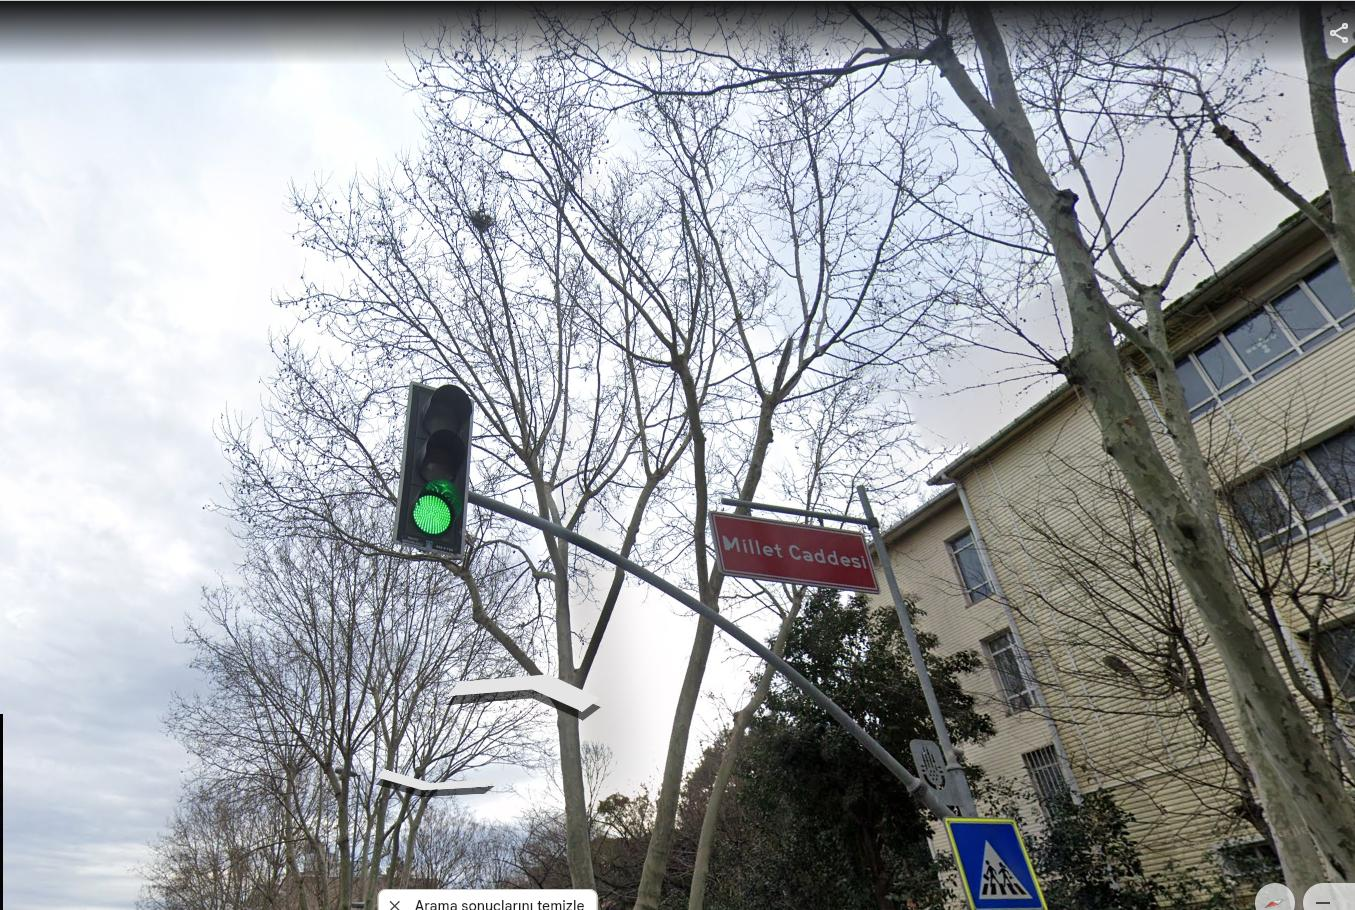greenlight: (397, 381, 473, 557)
